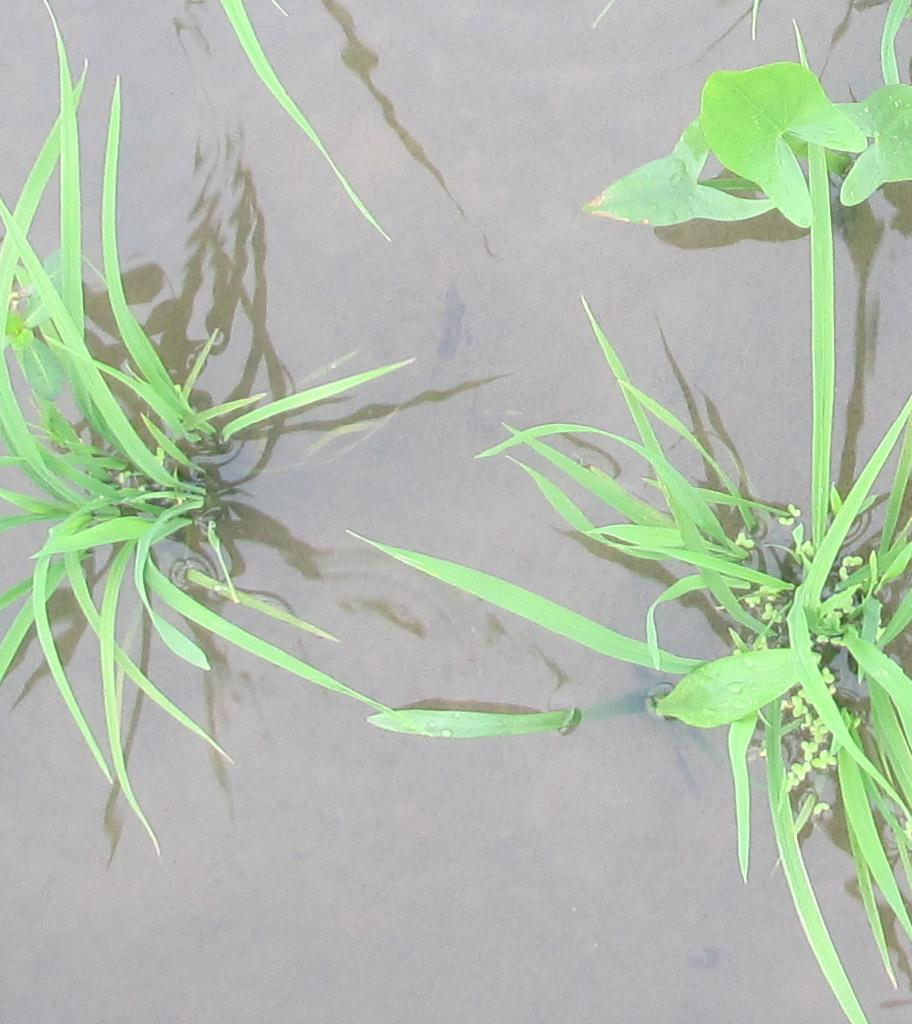Weed: (602, 61, 912, 229)
